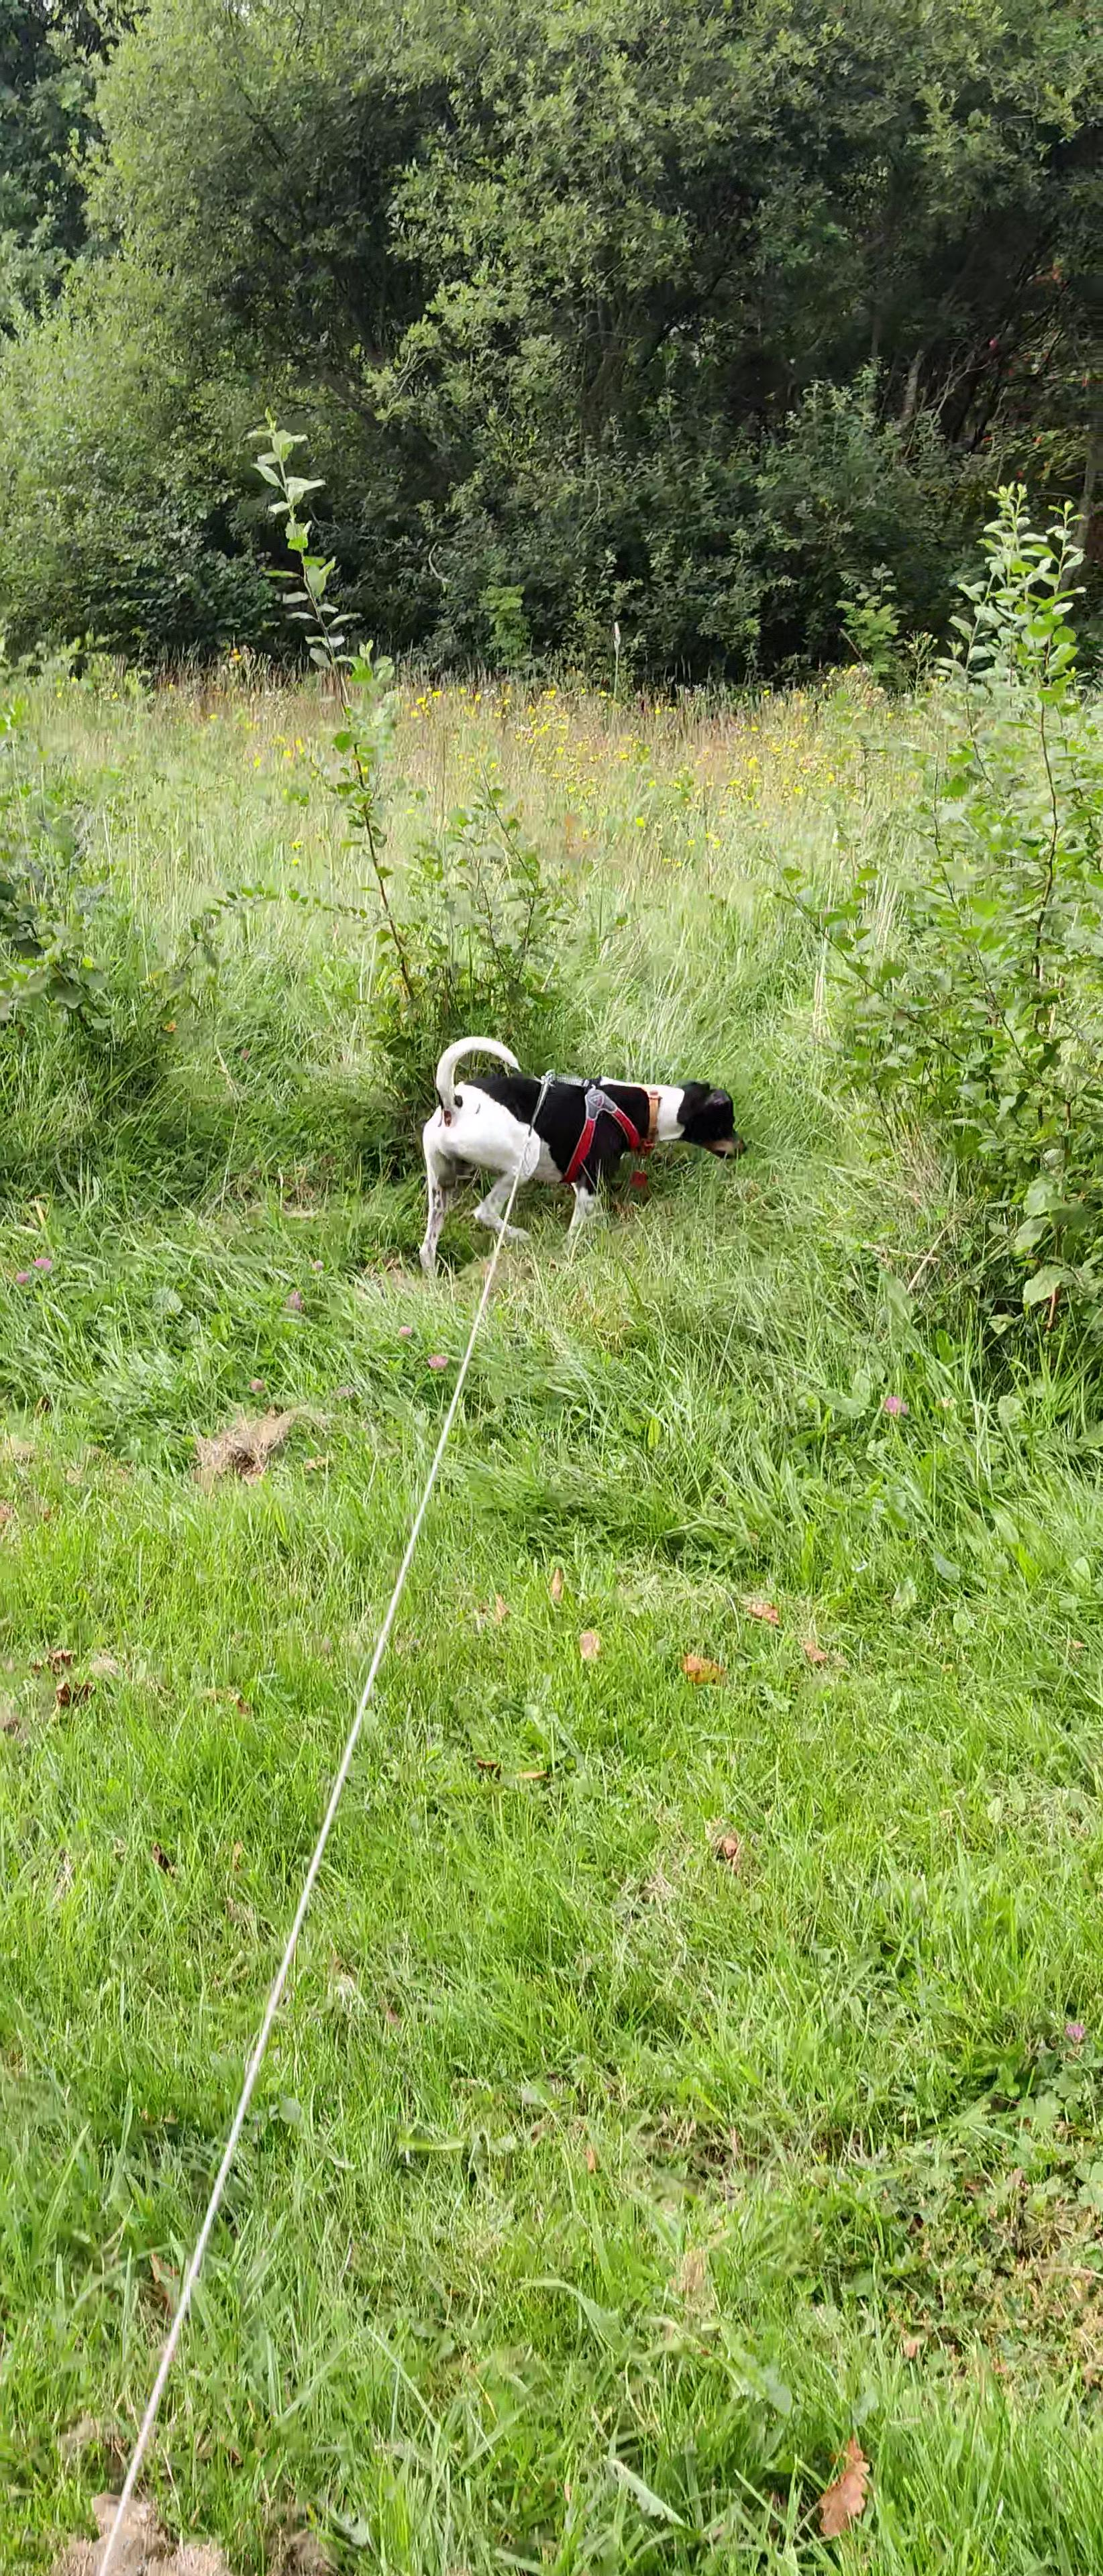Dog: (408, 1032, 756, 1285)
